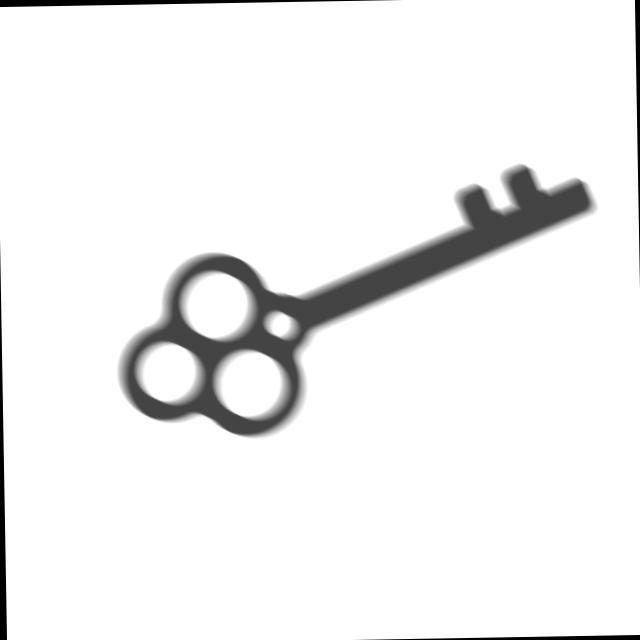key: (107, 152, 606, 444)
